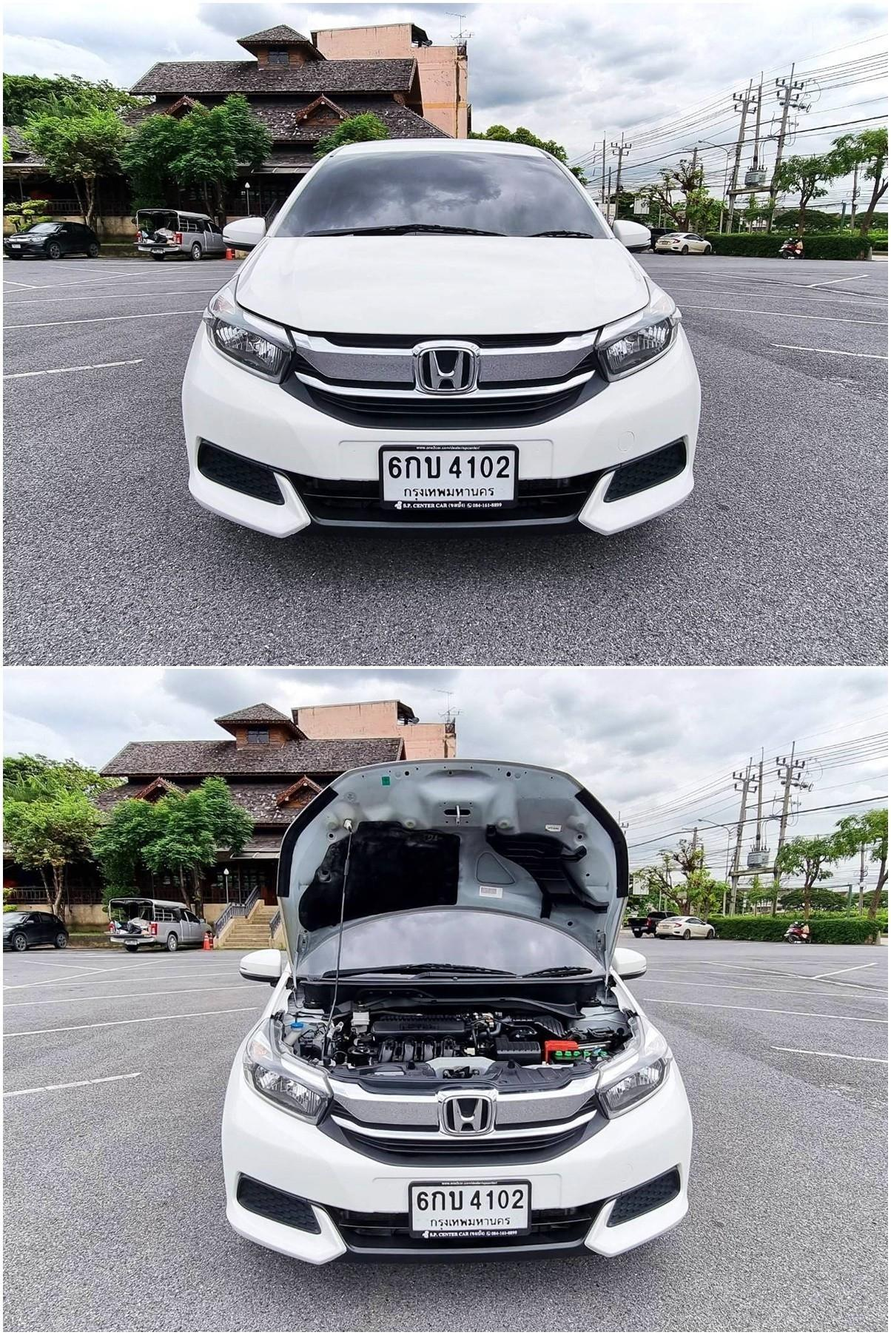license-plate: (376, 433, 519, 522), (411, 1178, 536, 1241)
